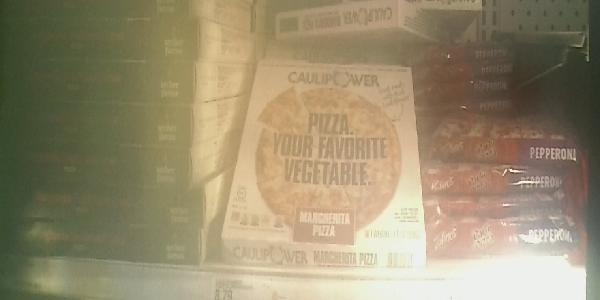pizza1: (218, 58, 426, 276)
pizza2: (2, 146, 193, 191), (1, 59, 196, 103), (4, 220, 202, 262), (6, 184, 208, 225), (1, 18, 202, 59), (3, 105, 192, 147), (274, 1, 412, 36)
